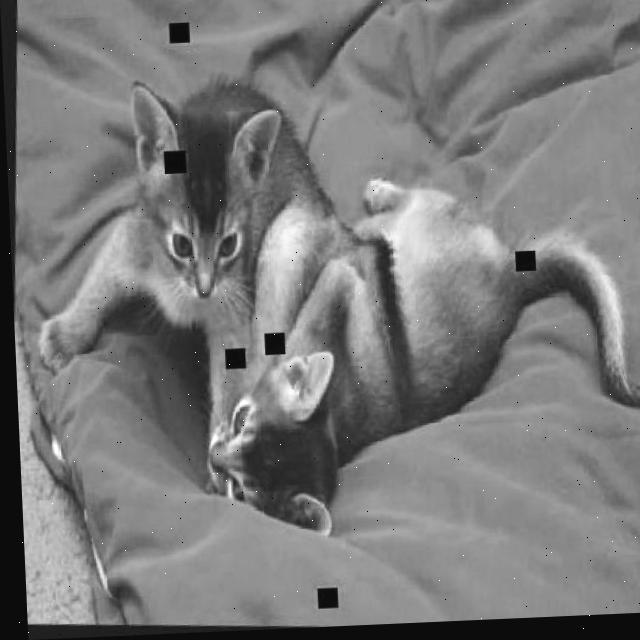Cat: (190, 156, 640, 561), (24, 43, 437, 440)
